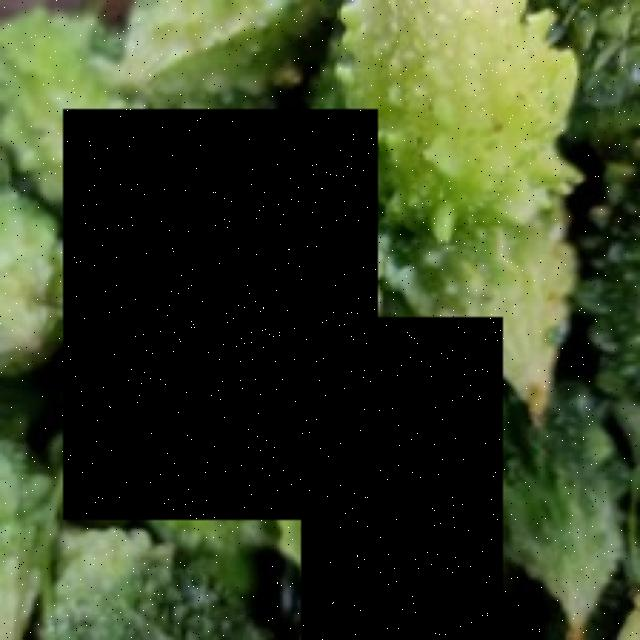Bitter_Gourd: (64, 109, 379, 520), (301, 317, 503, 640)
